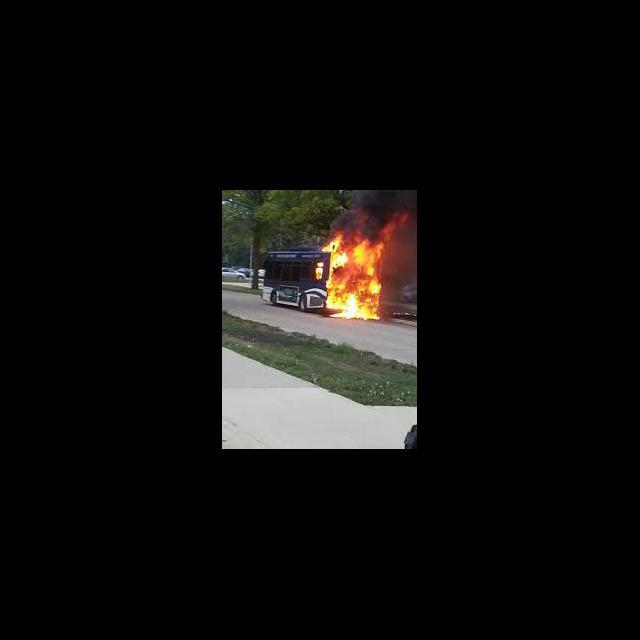Fire: (314, 209, 416, 322)
